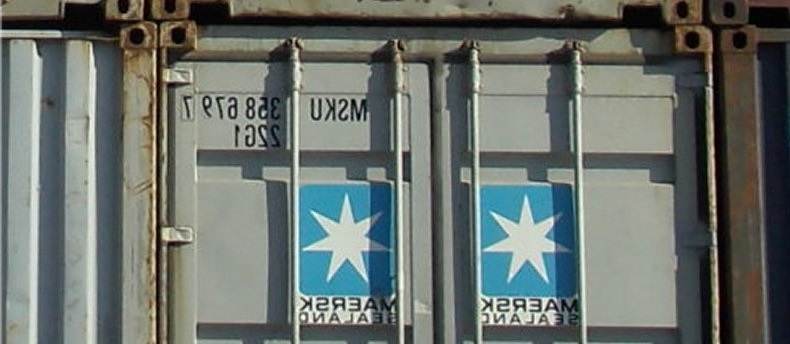container_door: (161, 14, 712, 344)
